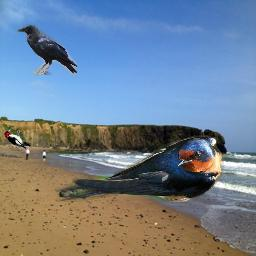Crow: (17, 24, 77, 75)
Swallow: (55, 135, 224, 202)
Woodpecker: (1, 127, 32, 150)
